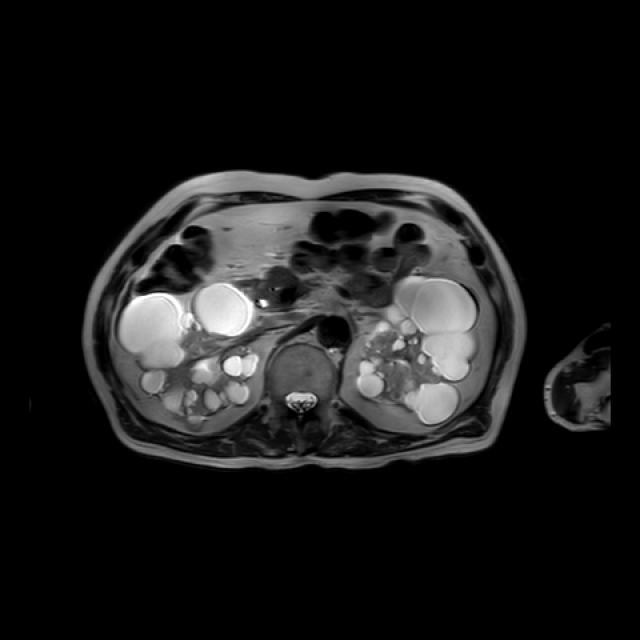sag: (119, 283, 261, 431)
sol: (353, 275, 479, 427)
